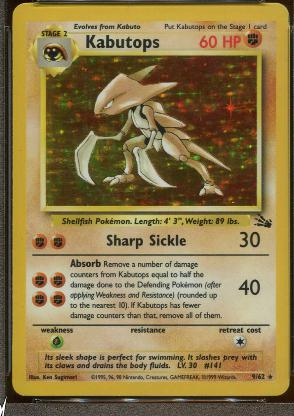Card: (10, 0, 290, 400)
